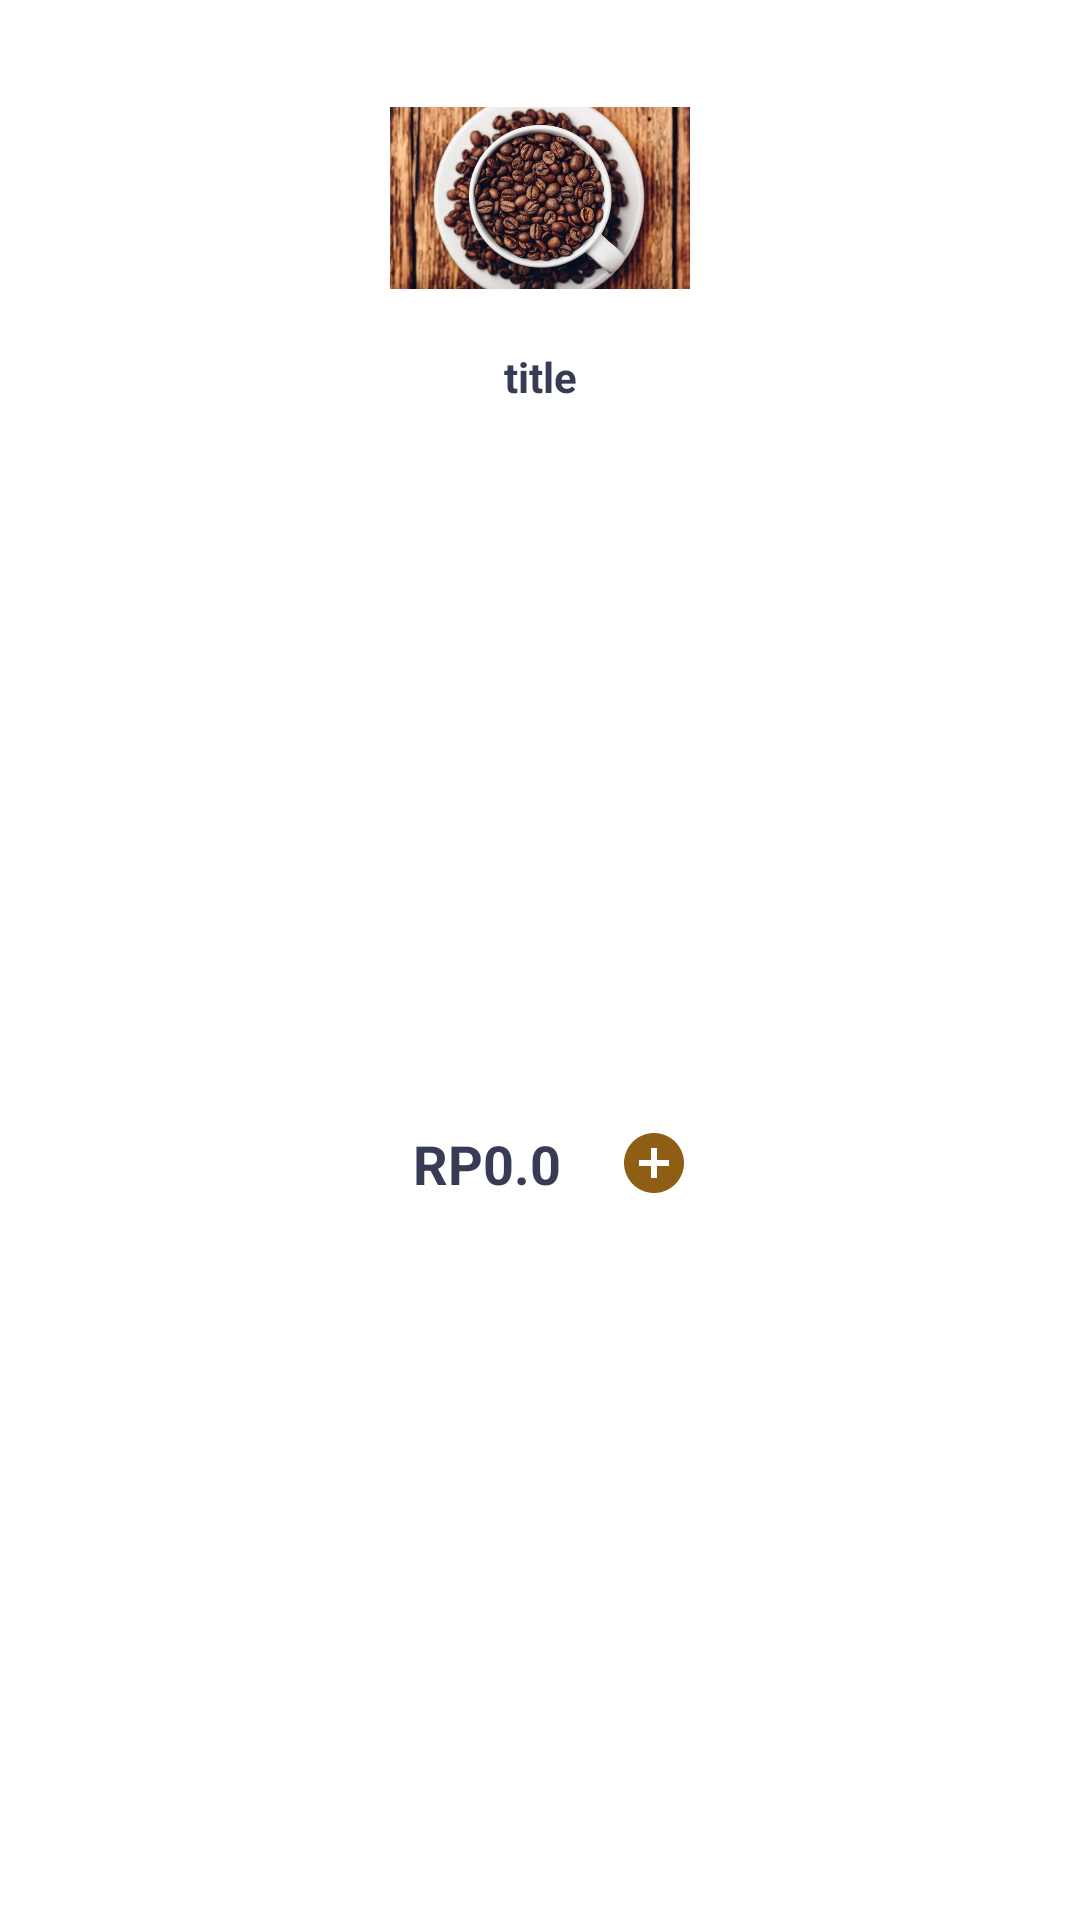

Screen size 1080px x 1920px. Icon name, then its box in pixels as (x1, y1, x2, y2):
add circle: (624, 1133, 684, 1193)
robusta: (390, 107, 690, 289)
